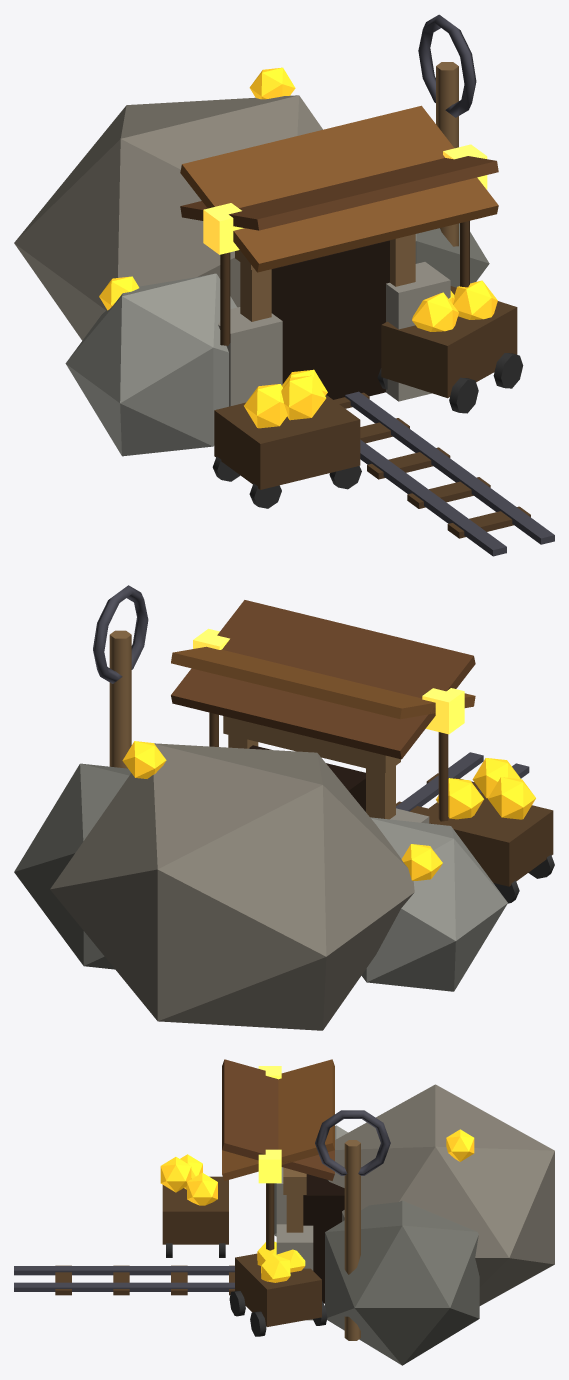
File: level2.glb
3 renders of one model, top to bottom at view 1: azimuth 30°, elevation 25°; view 2: azimuth 150°, elevation 25°; view 3: azimuth 270°, elevation 25°, orthographic. The views are drawn at different scales.
Size of the model in its own units: 2.17 by 1.79 by 3.47.
